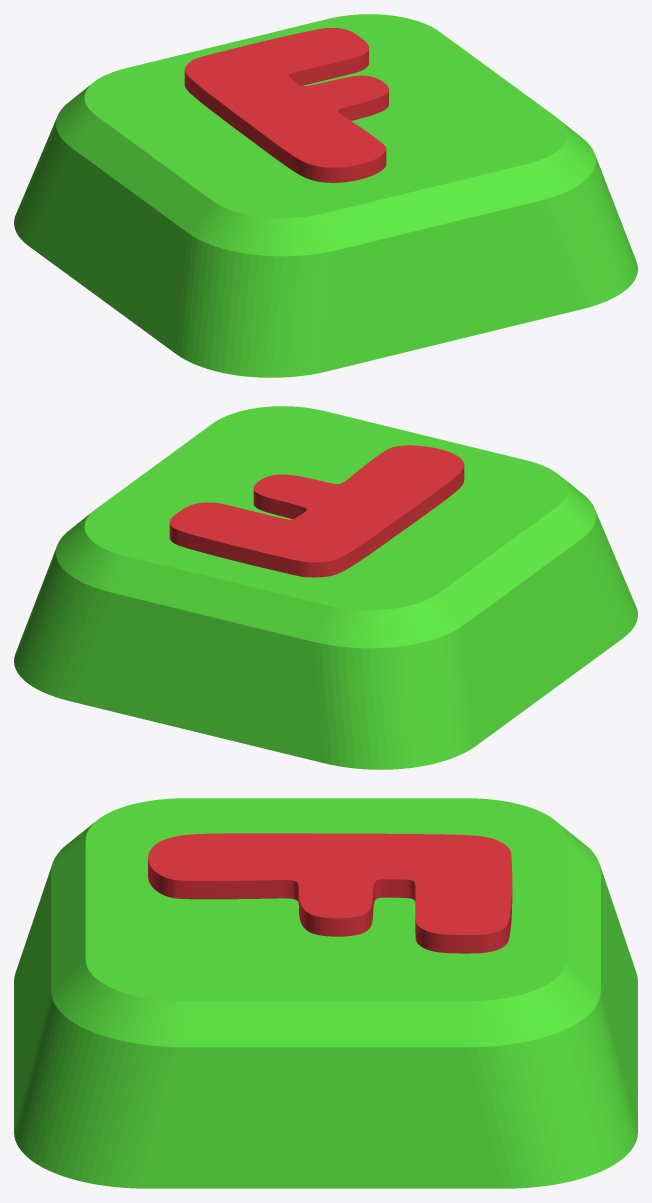
3 views of the same model, one above another, from view 1: azimuth 30°, elevation 25°; view 2: azimuth 150°, elevation 25°; view 3: azimuth 270°, elevation 25° (orthographic). The views are drawn at different scales.
Visible parts, largest first — view 1: CAPS_F, FONT_F; view 2: CAPS_F, FONT_F; view 3: CAPS_F, FONT_F.
Boxes of the visible parts, box(x1,y1,x2,y2) form: CAPS_F: box(14, 14, 637, 377); FONT_F: box(184, 28, 388, 182); CAPS_F: box(14, 406, 637, 769); FONT_F: box(169, 445, 464, 577); CAPS_F: box(14, 798, 637, 1188); FONT_F: box(148, 833, 512, 953).
Bounding box in the file's own units: 18 × 5.59 × 18.
